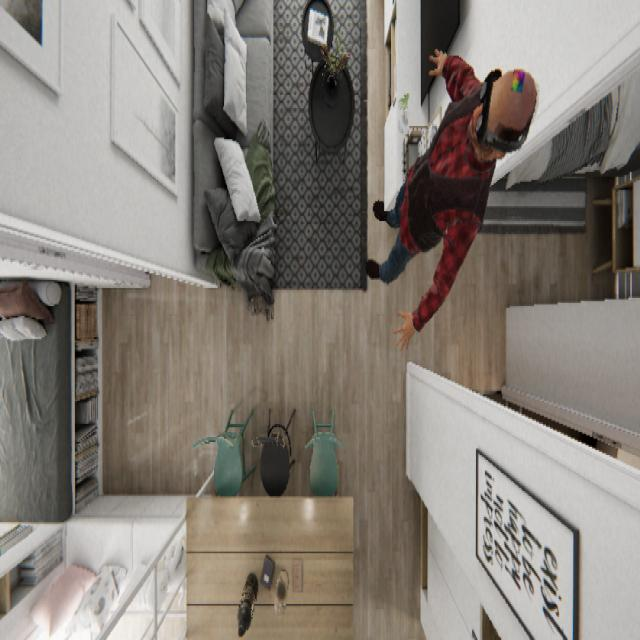Colored-Marker: (509, 65, 526, 95)
Human: (364, 44, 538, 352)
